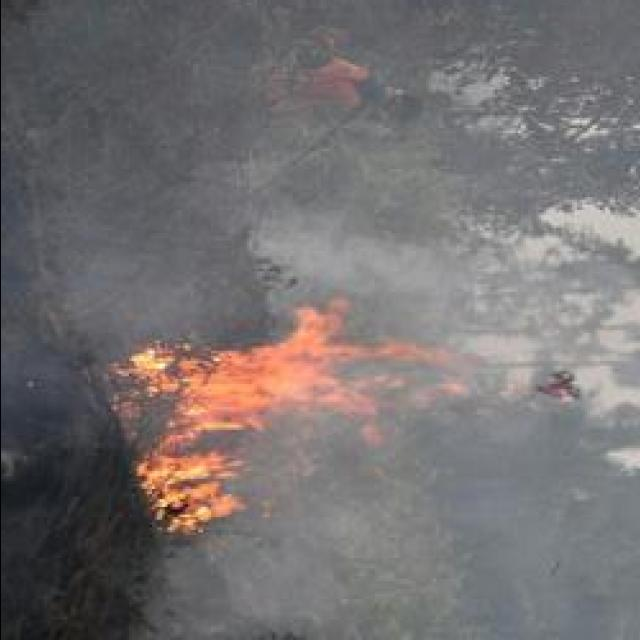fire: (138, 395, 240, 540), (201, 343, 359, 419)
smoke: (352, 9, 524, 150), (280, 228, 400, 286)
